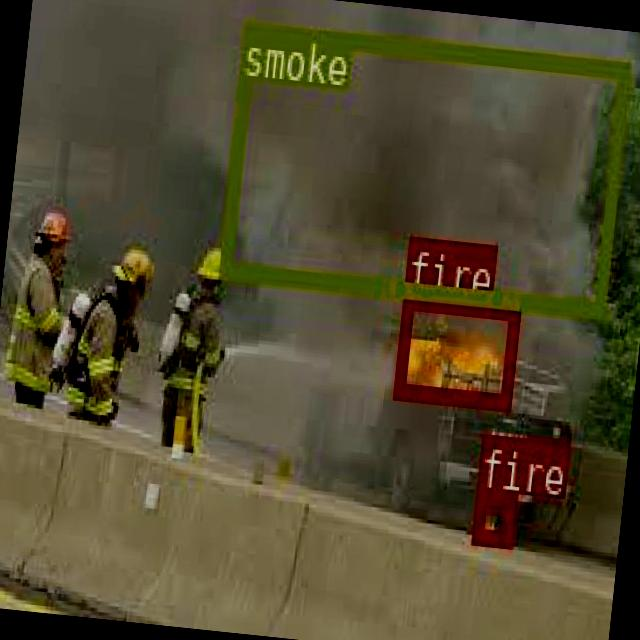fire: (391, 290, 518, 408), (470, 487, 514, 544)
smoke: (216, 20, 630, 315)
